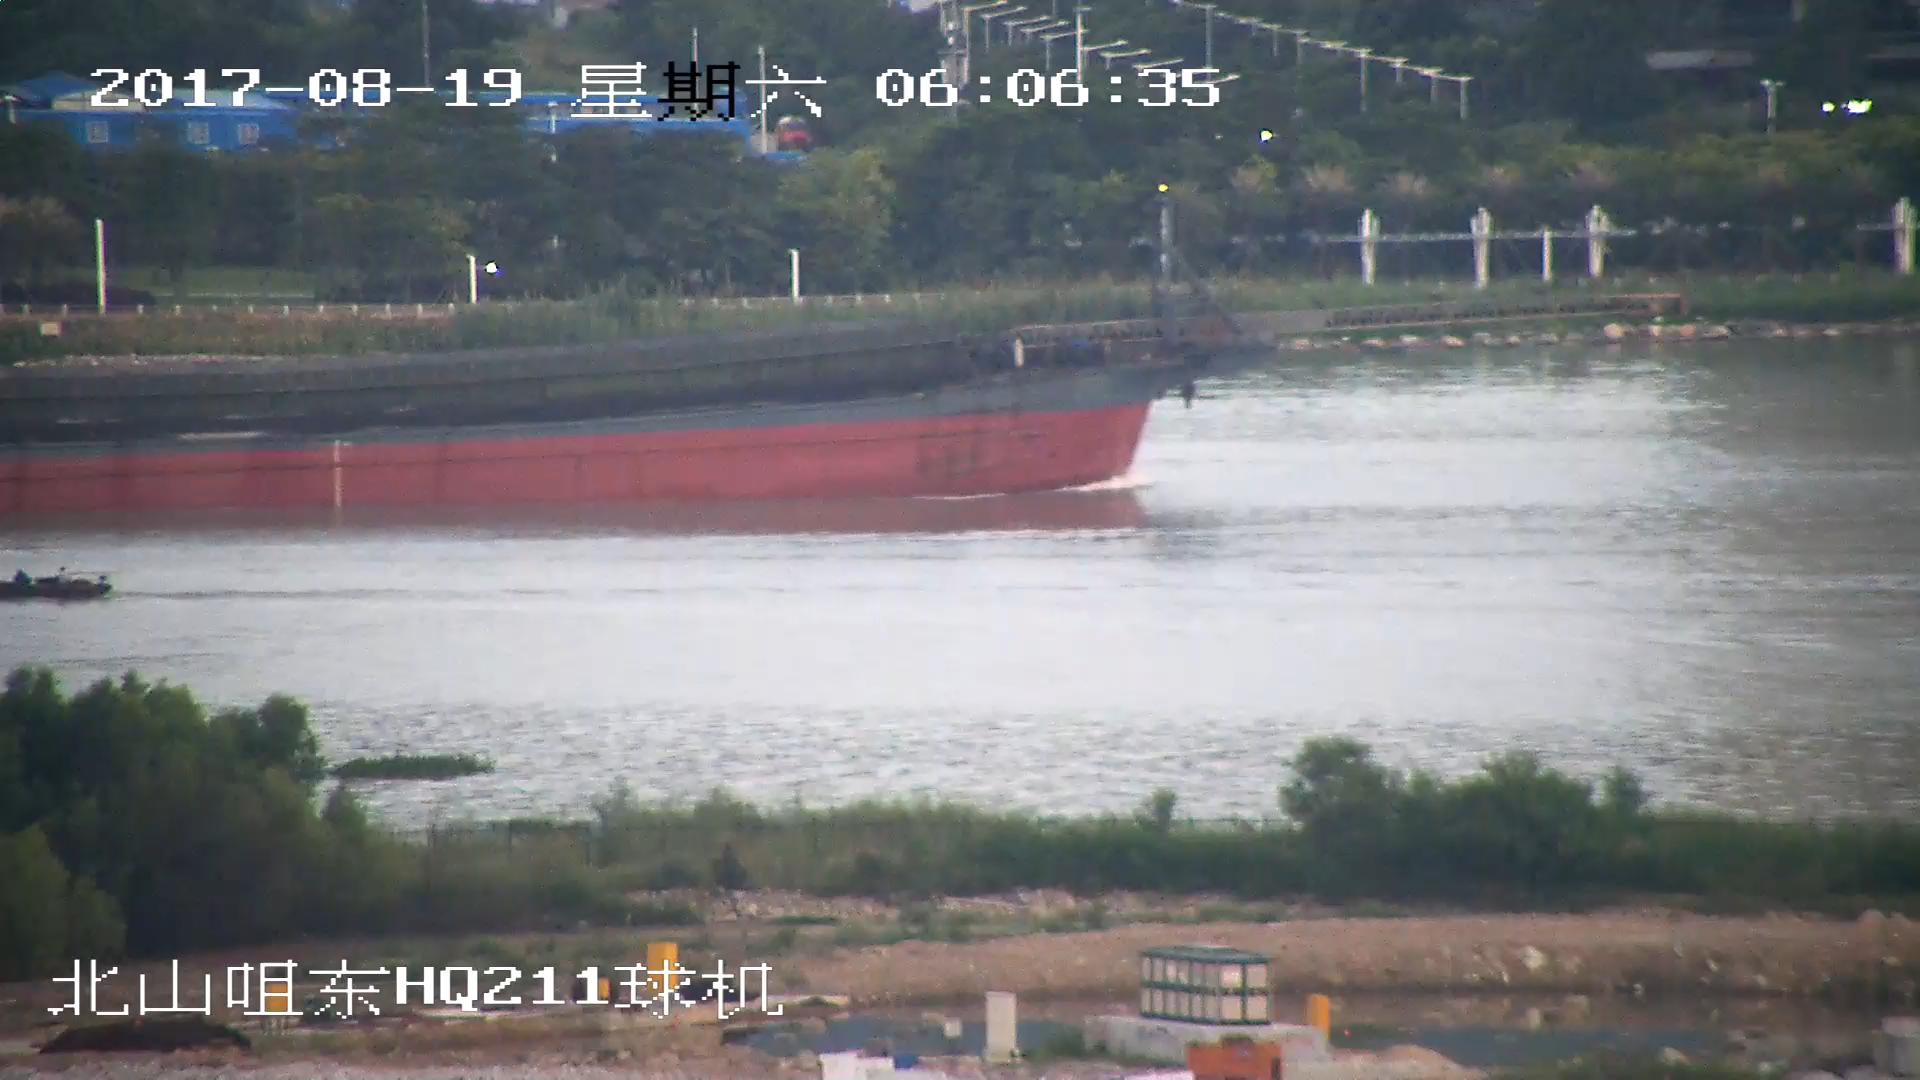bulk cargo carrier: (1, 195, 1675, 515)
fishing boat: (1, 565, 111, 605)
